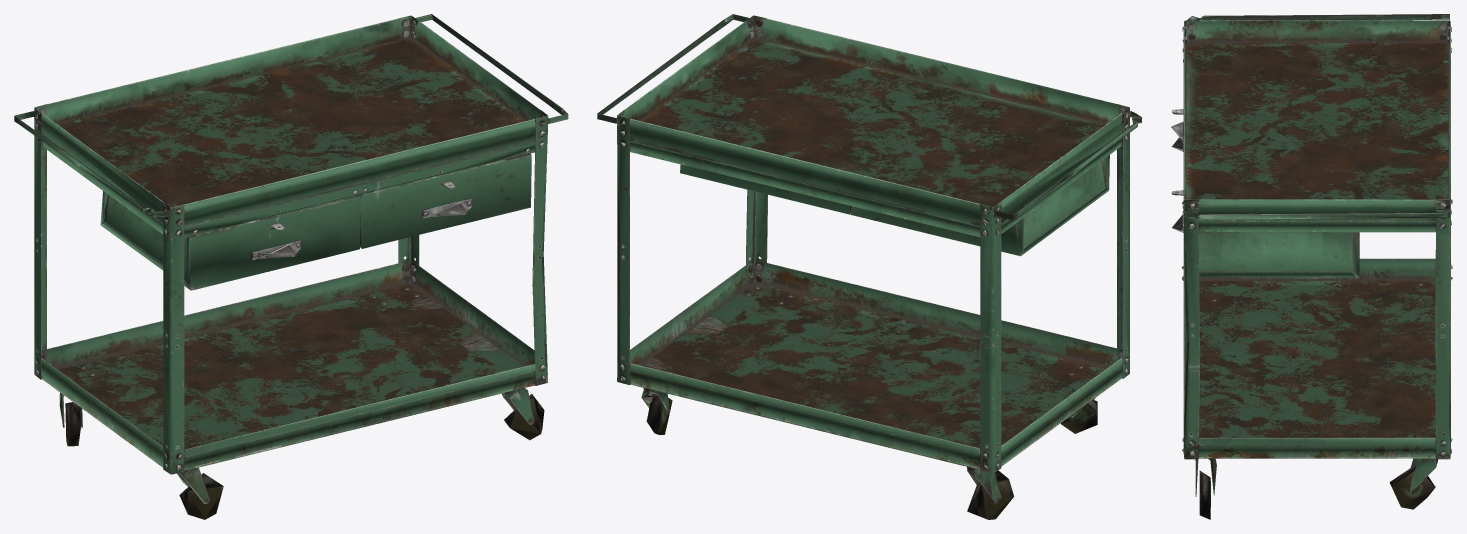
File: toolcart.glb
3 views of the same model, side by side, from view 1: azimuth 30°, elevation 25°; view 2: azimuth 150°, elevation 25°; view 3: azimuth 270°, elevation 25° (orthographic). The views are drawn at different scales.
Parts seen in each view (by area): view 1: tool_cart; view 2: tool_cart; view 3: tool_cart.
Boxes of the visible parts, x1,y1,x2,y2 form: tool_cart: [14, 14, 568, 519]; tool_cart: [597, 14, 1142, 519]; tool_cart: [1171, 14, 1452, 519].
Bounding box in the file's own units: 1.26 × 0.9457 × 0.7536.
1 material, 1 textured.
